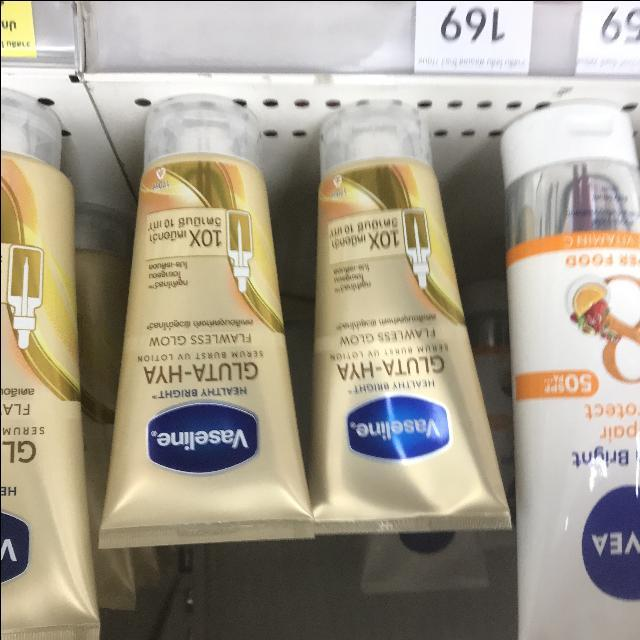Squeeze Tube: (0, 77, 640, 640), (310, 96, 529, 531), (113, 90, 314, 558), (497, 96, 637, 637), (0, 88, 102, 639)
